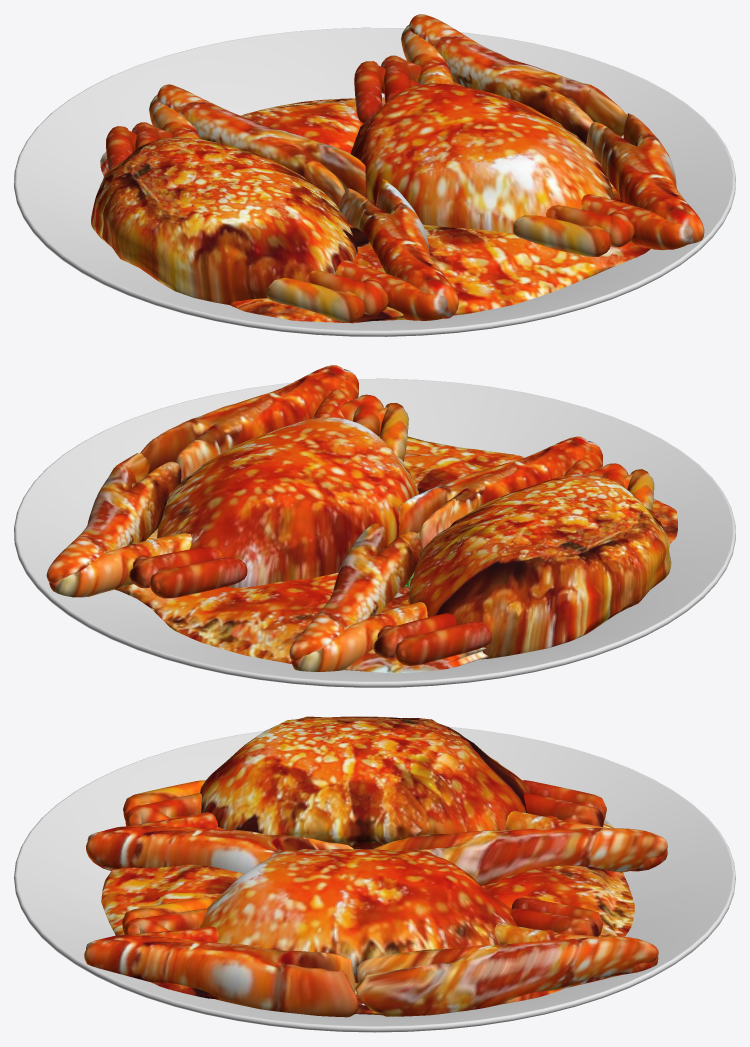
Rendered from Crabs.glb.
The picture shows the model from 3 angles, top to bottom: view 1: azimuth 30°, elevation 25°; view 2: azimuth 150°, elevation 25°; view 3: azimuth 270°, elevation 25°; orthographic projection.
Parts seen in each view (by area): view 1: Crabs; view 2: Crabs; view 3: Crabs.
Boxes of the visible parts, <box> form: Crabs: <box>14,14,735,336</box>; Crabs: <box>14,365,735,687</box>; Crabs: <box>14,716,735,1032</box>.
Bounding box in the file's own units: 0.2485 × 0.0465 × 0.2485.
Materials: 2 (1 with a texture image).
